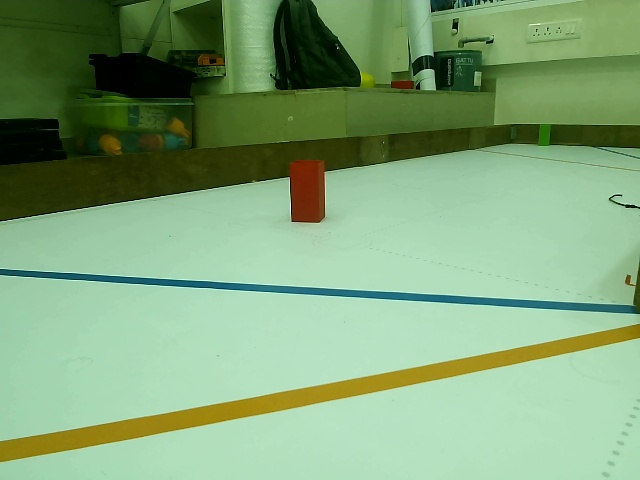red: (292, 161, 324, 223)
